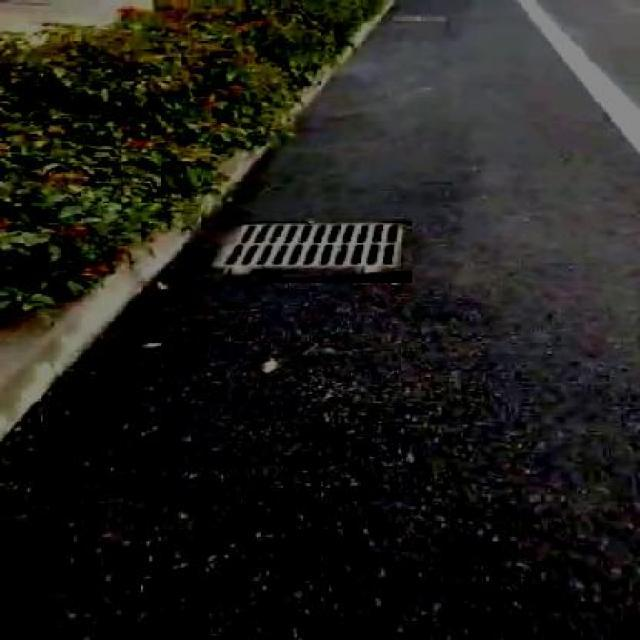Manhole: (200, 218, 412, 284)
